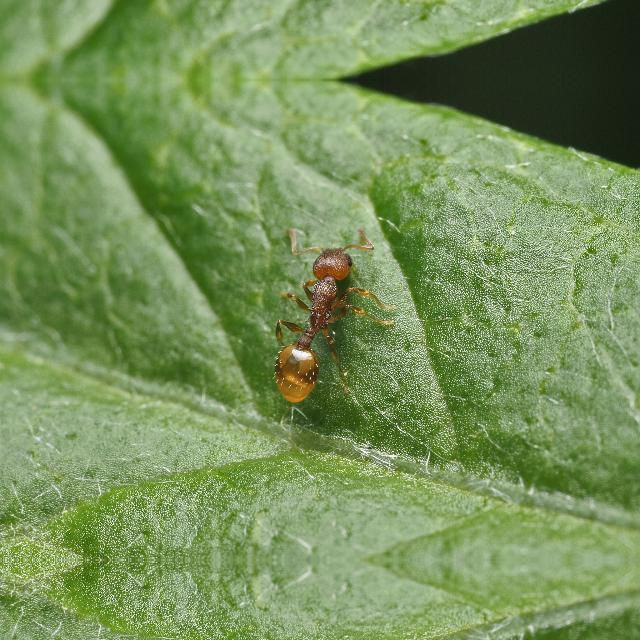Temnothorax: (252, 220, 400, 424)
